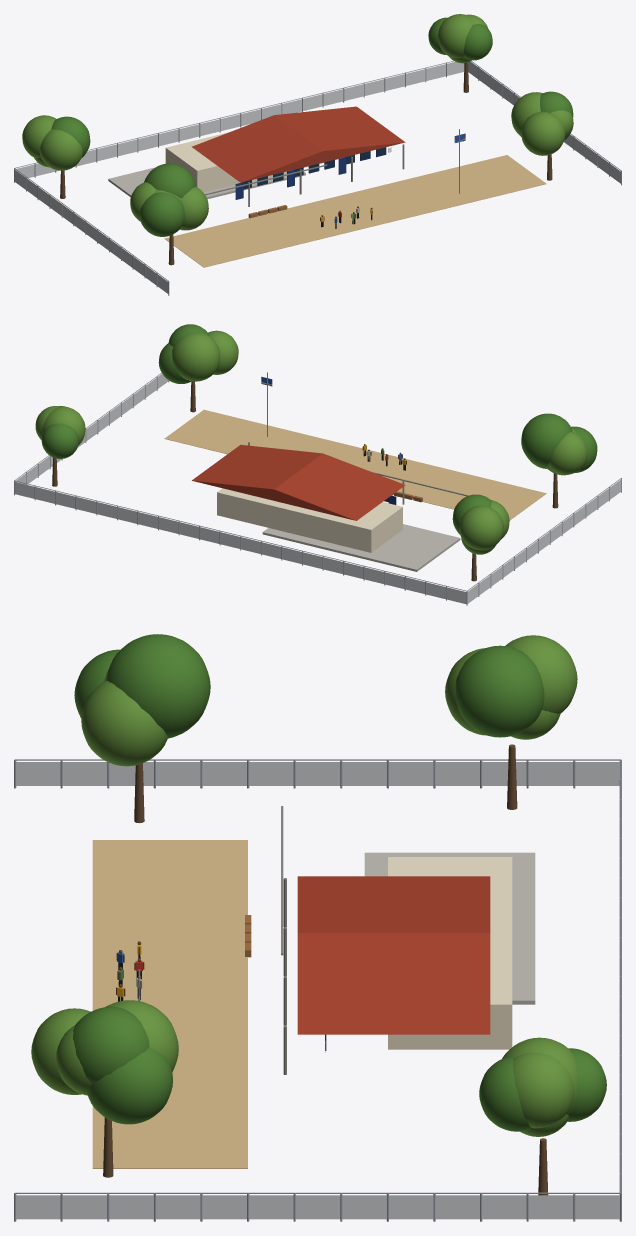
Rendered from Bloc_3_classes.glb.
The picture shows the model from 3 angles, top to bottom: view 1: azimuth 30°, elevation 25°; view 2: azimuth 150°, elevation 25°; view 3: azimuth 270°, elevation 25°; orthographic projection. The views are drawn at different scales.
Size of what is drawn, in the model's own units: 67.77 by 13.11 by 39.14.
